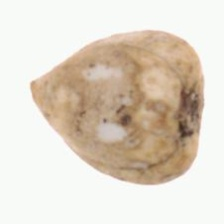L1: (172, 81, 204, 147), (29, 63, 61, 124)
L2: (29, 30, 205, 186)
